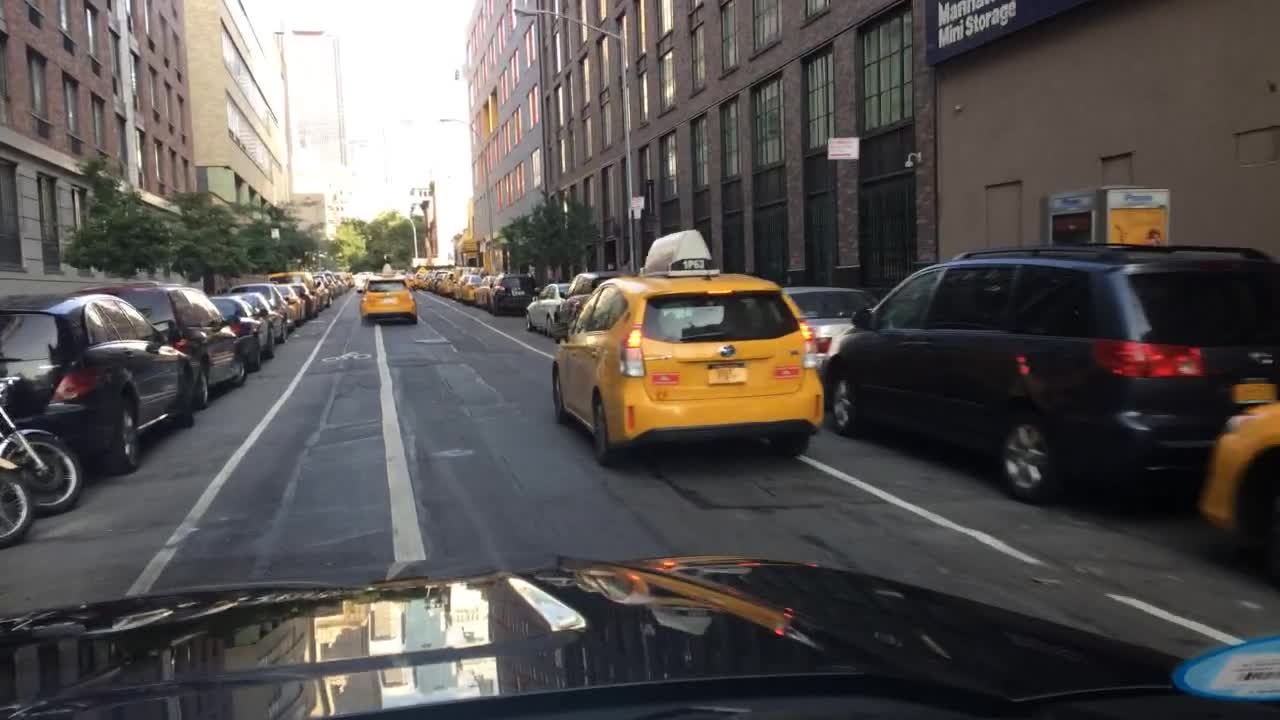car: (822, 241, 1279, 506), (548, 229, 822, 466), (0, 293, 195, 477), (84, 280, 248, 408), (1194, 401, 1279, 585), (783, 287, 881, 363), (555, 266, 627, 344), (211, 290, 271, 374), (357, 260, 420, 327), (224, 280, 288, 342), (233, 290, 280, 359), (266, 270, 324, 314), (523, 280, 570, 332), (489, 268, 540, 314), (273, 280, 303, 322), (288, 280, 314, 322), (310, 272, 337, 307), (469, 272, 496, 307), (449, 268, 474, 300), (459, 273, 482, 305), (438, 261, 459, 295), (354, 266, 371, 293), (432, 266, 449, 292), (411, 266, 430, 287), (422, 272, 440, 290), (324, 275, 341, 293), (332, 270, 346, 288), (341, 272, 352, 290)
motor: (0, 369, 84, 516), (0, 455, 37, 550)
traffic sign: (825, 137, 859, 158), (629, 196, 644, 209)
